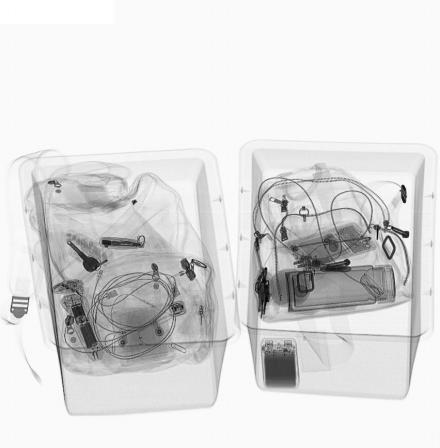Powerbank: (260, 337, 299, 389)
